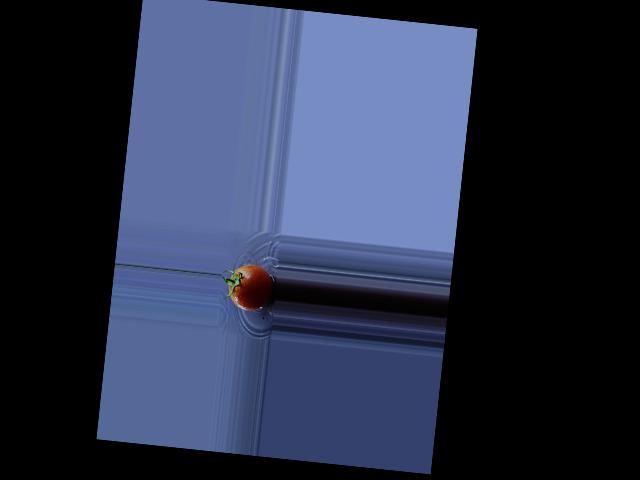tomato: (227, 262, 275, 312)
